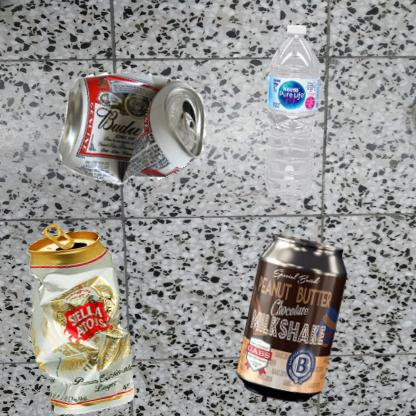botella: (213, 10, 374, 213)
lata: (10, 10, 290, 258), (213, 213, 385, 416), (10, 213, 155, 416)
